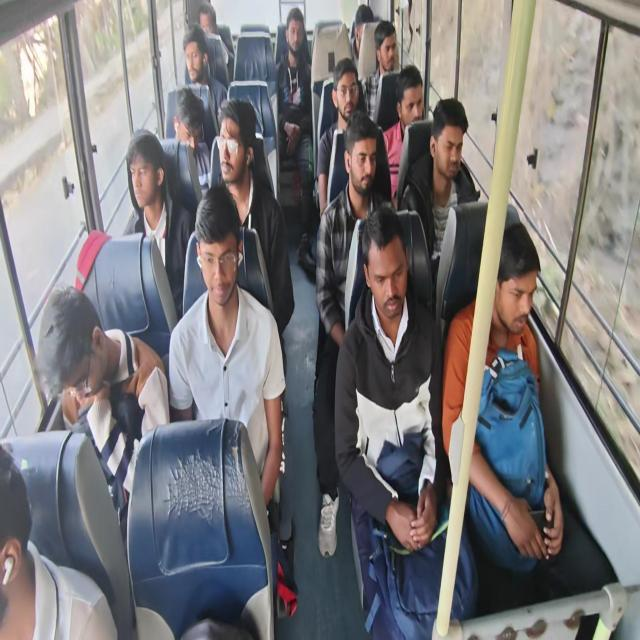person: (442, 221, 620, 610), (334, 203, 478, 638), (168, 183, 286, 513), (312, 110, 393, 558), (35, 283, 168, 551), (207, 97, 295, 377), (0, 445, 118, 639), (400, 96, 480, 286), (126, 128, 192, 320), (276, 7, 313, 231), (316, 57, 367, 219), (382, 64, 424, 202), (182, 23, 227, 146), (172, 85, 210, 191), (361, 20, 398, 124), (198, 2, 234, 82), (350, 3, 374, 69)
